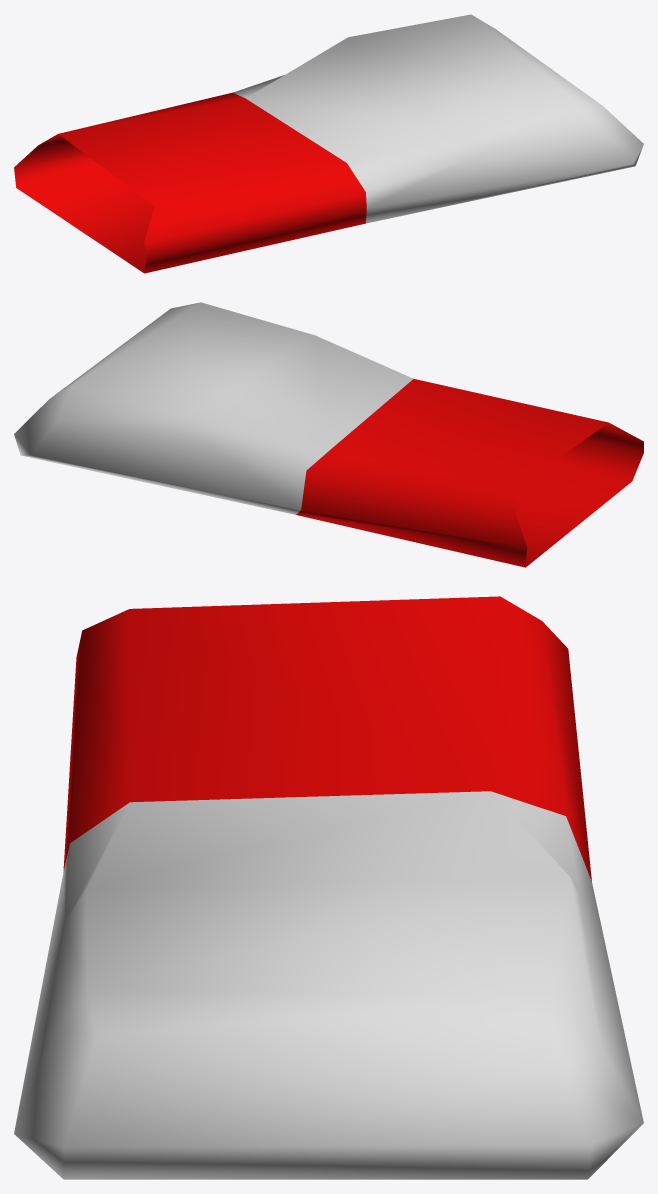
The model's file is woolskinBed_3.glb.
3 renders of one model, top to bottom at view 1: azimuth 30°, elevation 25°; view 2: azimuth 150°, elevation 25°; view 3: azimuth 270°, elevation 25°, orthographic. The views are drawn at different scales.
Visible parts, largest first — view 1: final3; view 2: final3; view 3: final3.
Boxes of the visible parts, box(x1,y1,x2,y2) form: final3: box(14, 14, 643, 273); final3: box(14, 302, 643, 567); final3: box(14, 596, 643, 1179).
Size of the model in its own units: 1.2 by 0.1698 by 0.655.
